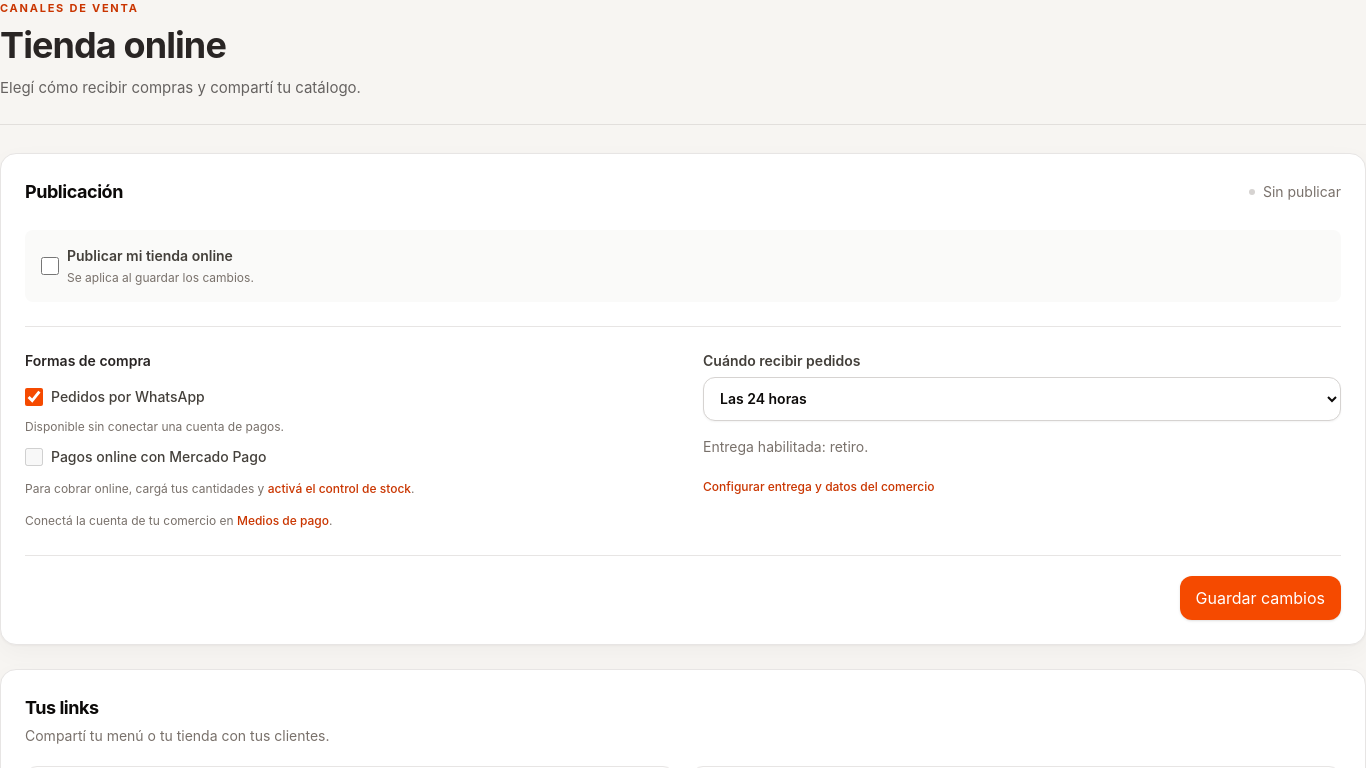
Scenario: StoreSettingsPage › blocks publication without a purchase method
Click the checkbox labelled "Publicar mi tienda online Se aplica al guardar los cambios.". click: coordinates (50, 266)
box: x1=41 y1=256 x2=59 y2=274
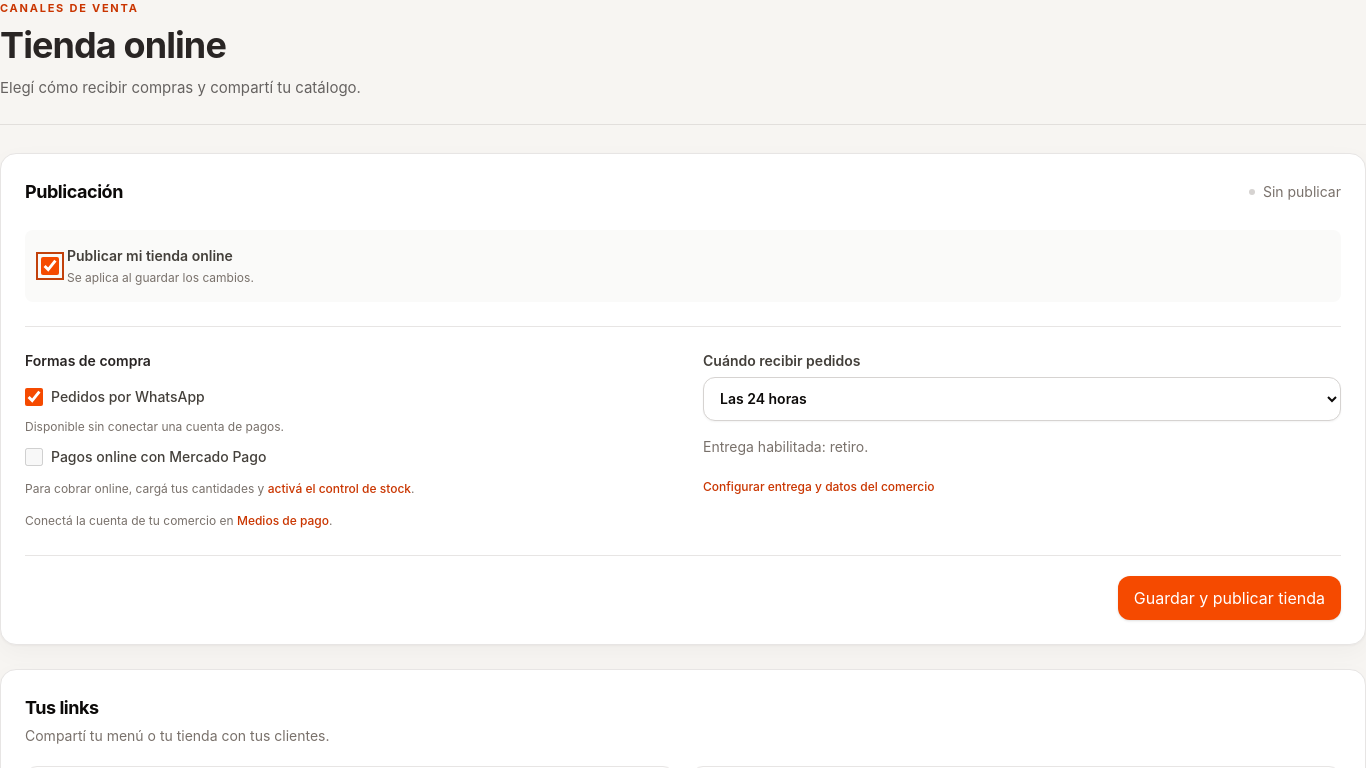
Click the checkbox labelled "Pedidos por WhatsApp". click: coordinates (34, 396)
box: x1=25 y1=388 x2=43 y2=406
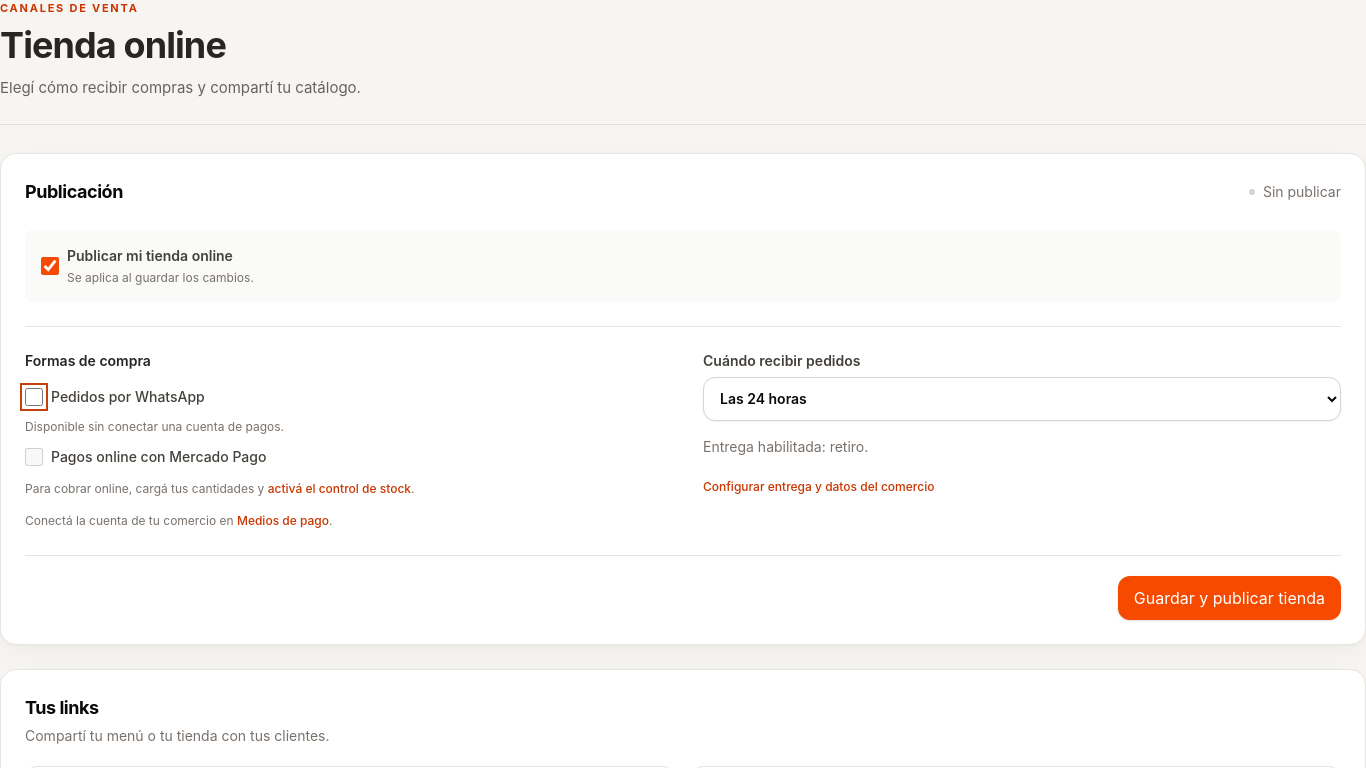
Click the button "Guardar y publicar tienda". click: coordinates (1229, 598)
box: x1=1118 y1=576 x2=1341 y2=620
(page scrolled)
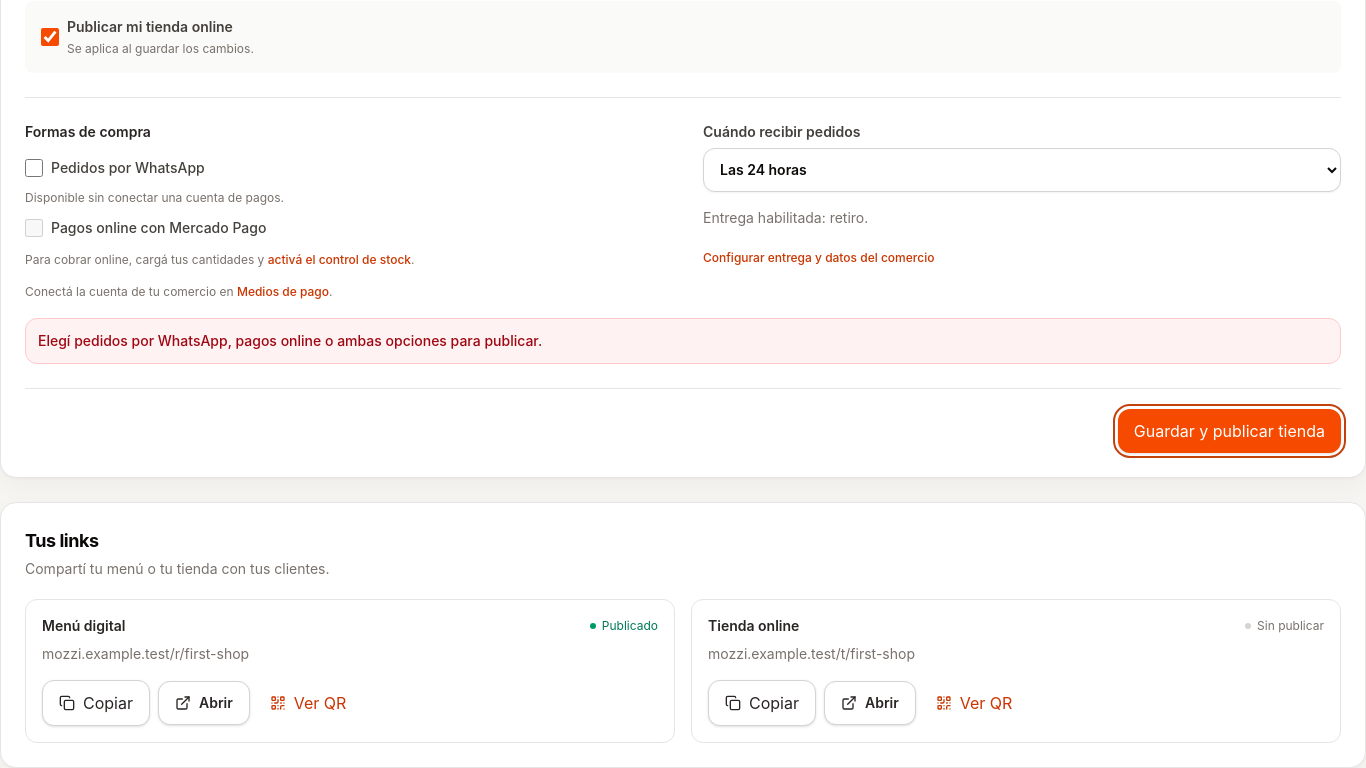
Expected: the text "Sin publicar" is shown, x1=1245 y1=618 x2=1324 y2=634
Now the message shows "Elegí pedidos por WhatsApp, pagos online o ambas opciones", box x1=38 y1=332 x2=542 y2=348
